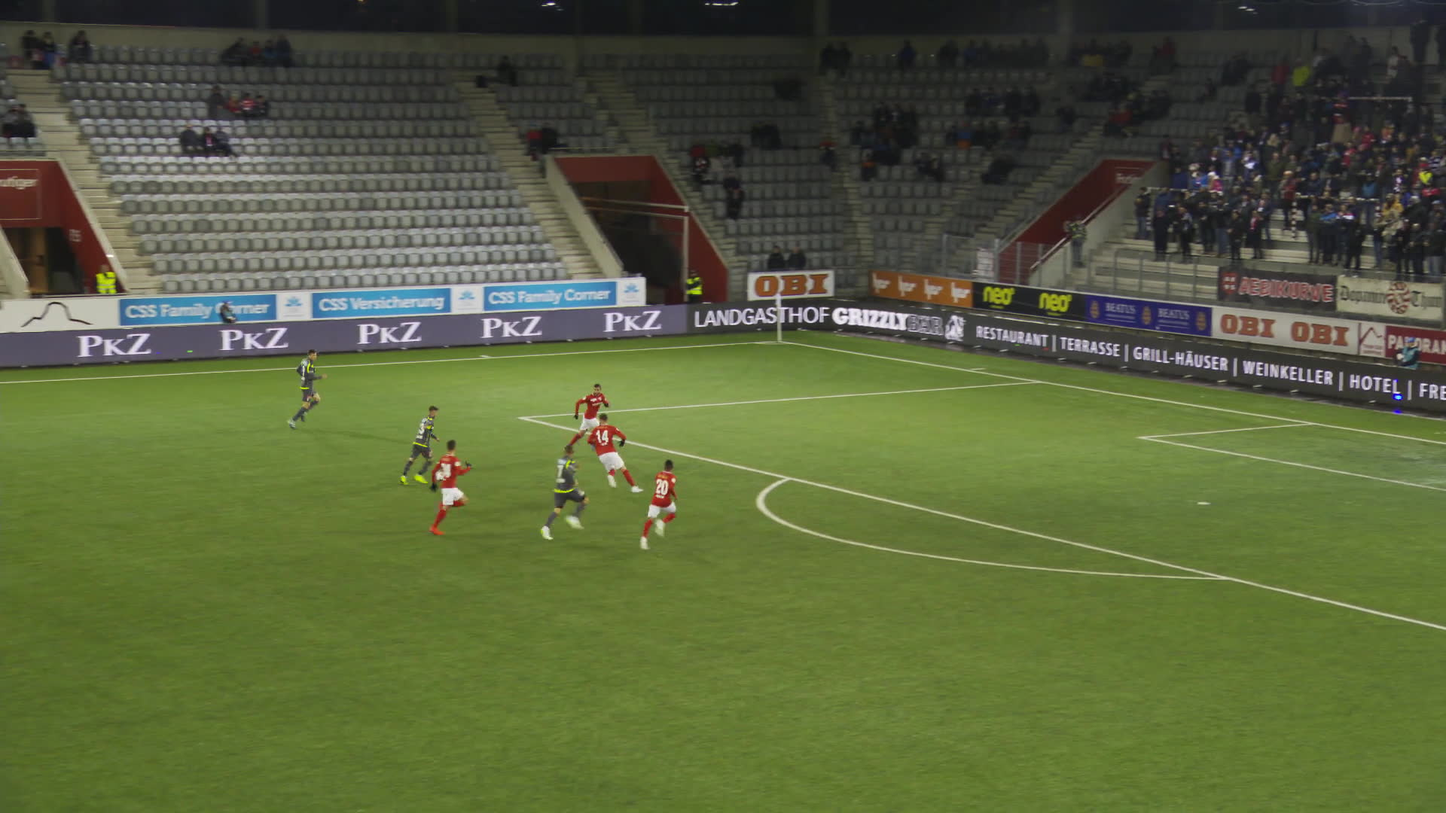ball: (435, 470, 441, 479)
player: (524, 444, 590, 537), (411, 437, 468, 532), (629, 458, 677, 546), (392, 403, 443, 483), (586, 413, 636, 492), (558, 382, 611, 453), (282, 347, 325, 430)
